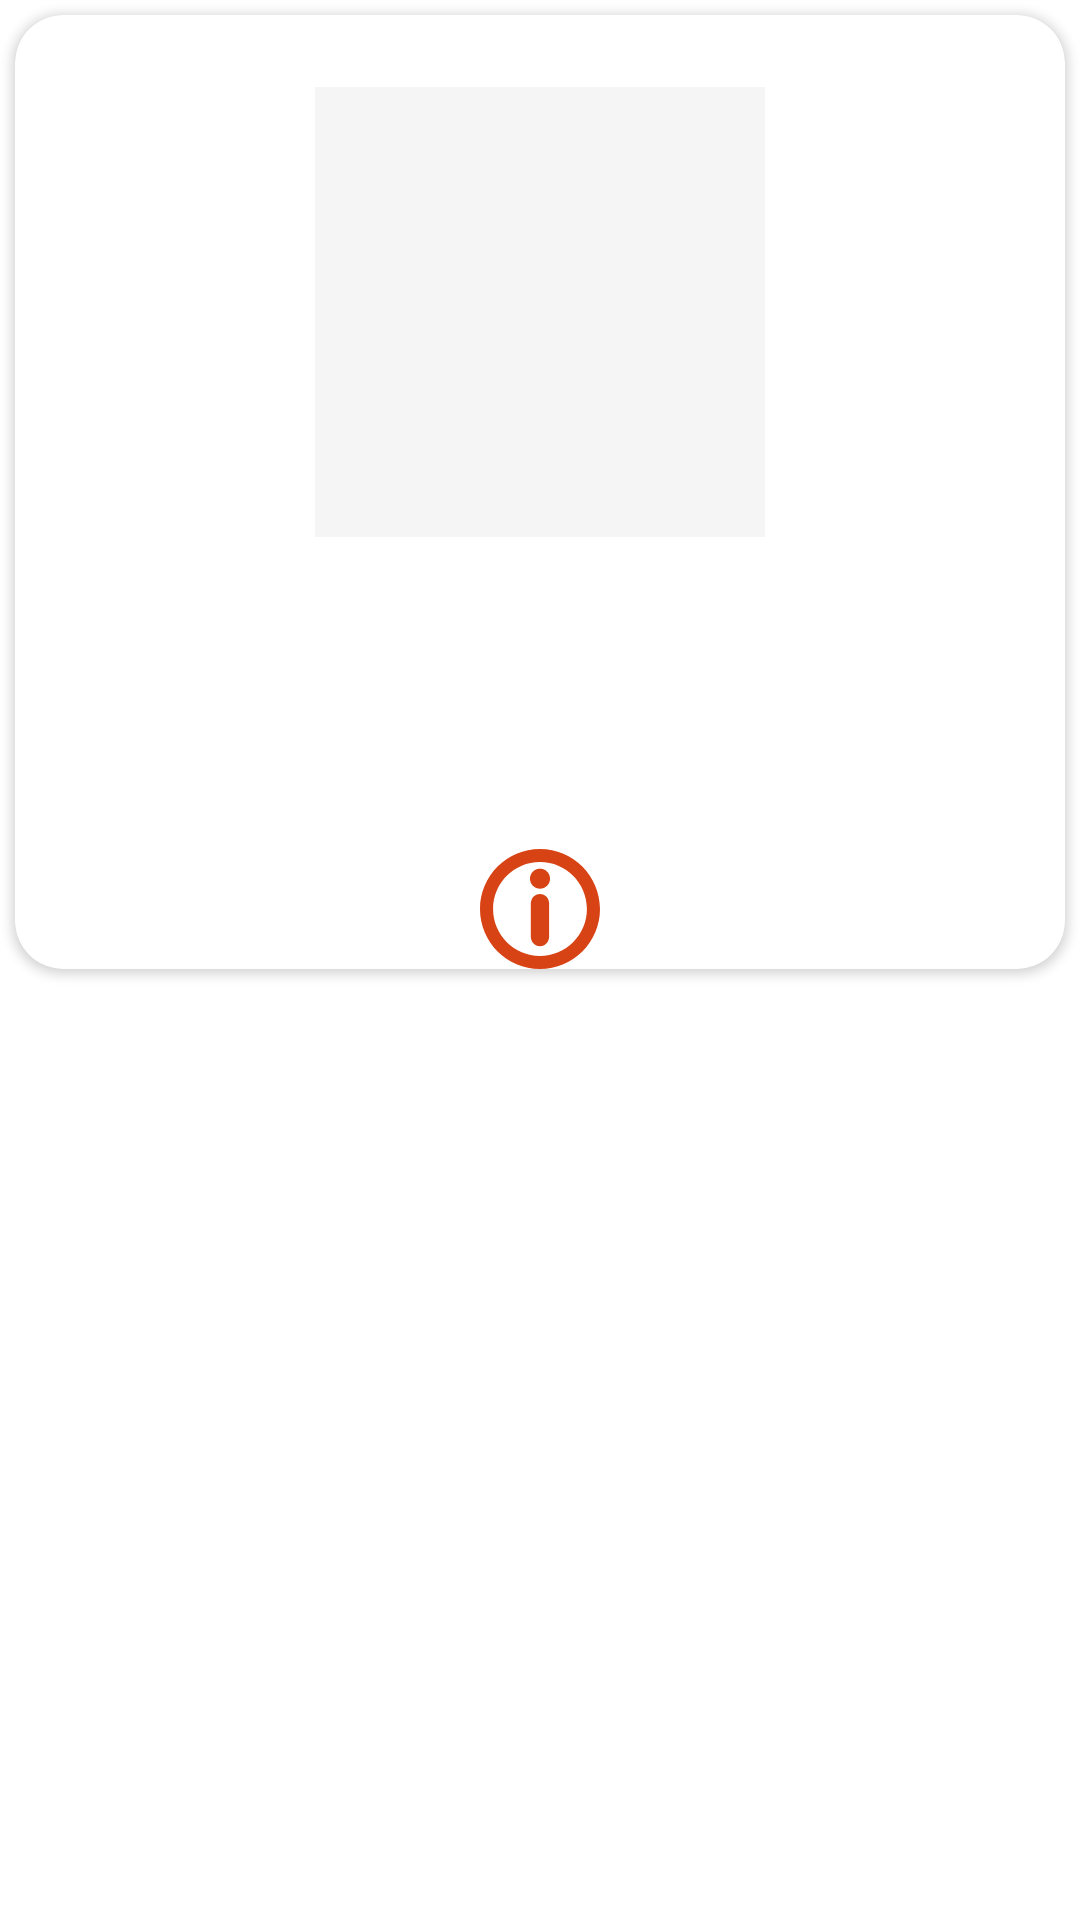

Where icons sit on this 1080×1920 app screen, as (x1, y1, x2, y2):
information sign: (480, 849, 600, 969)
